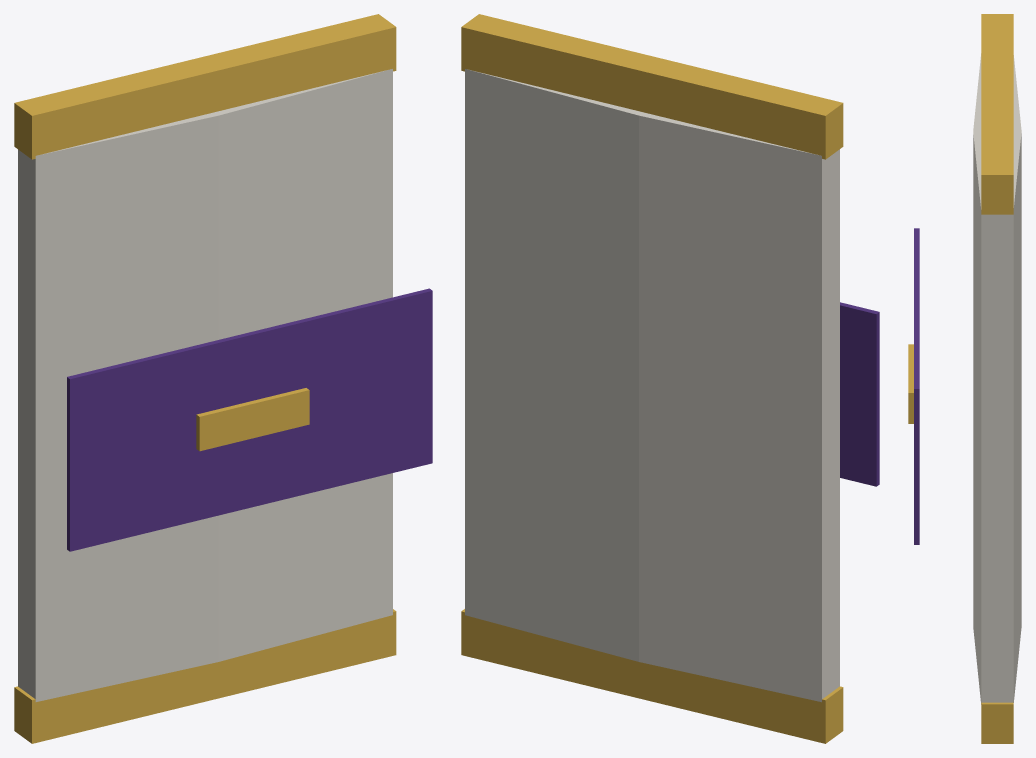
The model's file is g-rice.glb.
The picture shows the model from 3 angles, left to right: view 1: azimuth 30°, elevation 25°; view 2: azimuth 150°, elevation 25°; view 3: azimuth 270°, elevation 25°; orthographic projection. The views are drawn at different scales.
Visible parts, largest first — view 1: g_rice; view 2: g_rice; view 3: g_rice.
Boxes of the visible parts, <box> form: g_rice: <box>14,14,432,743</box>; g_rice: <box>461,14,879,743</box>; g_rice: <box>908,14,1021,743</box>.
Size of the model in its own units: 0.1326 by 0.2184 by 0.0394.
